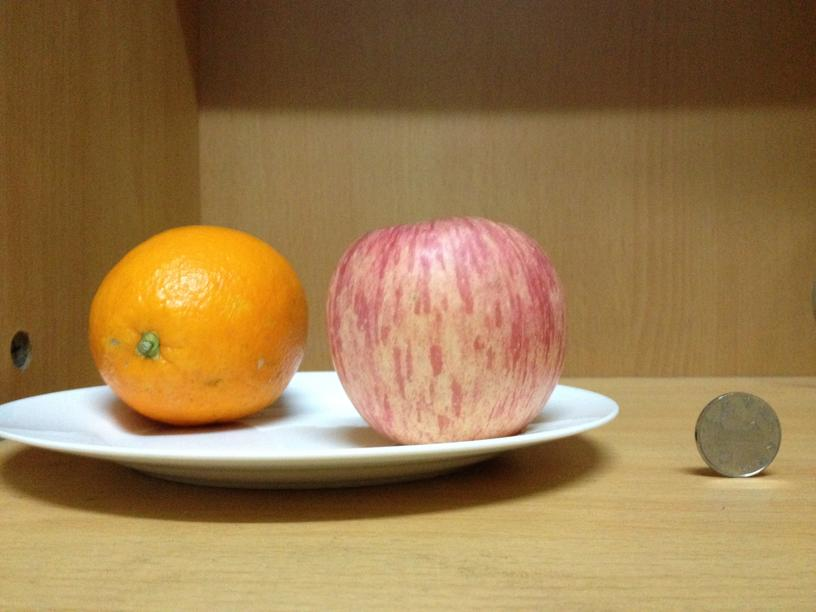apple: (328, 220, 566, 443)
coin: (693, 392, 782, 478)
orange: (88, 223, 310, 423)
